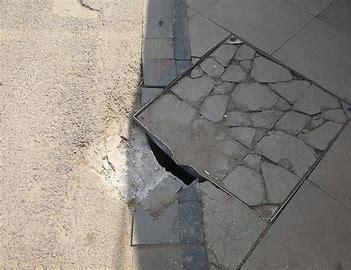wellcover: (121, 31, 351, 230)
